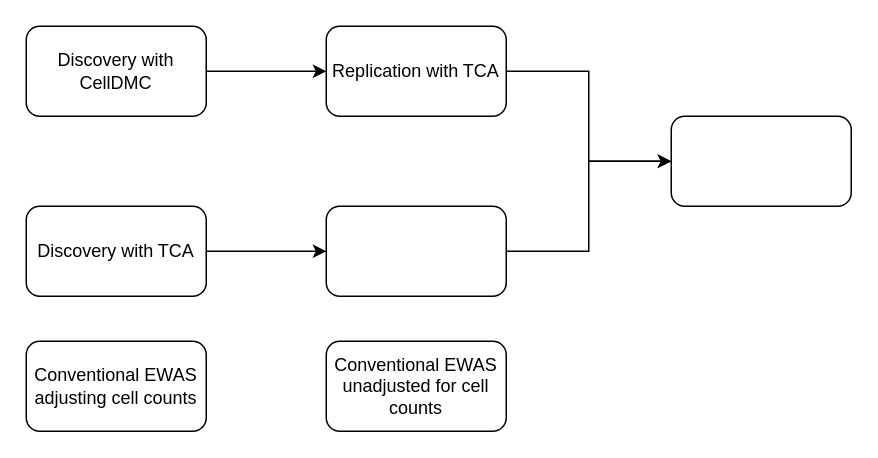
This 878x458 diagram has some shape labels left out. The centre of each missing label's shape, as x and y in pixels:
Replication with CellDMC: the point at 415,250
Replication with omicWAS: the point at 760,160
